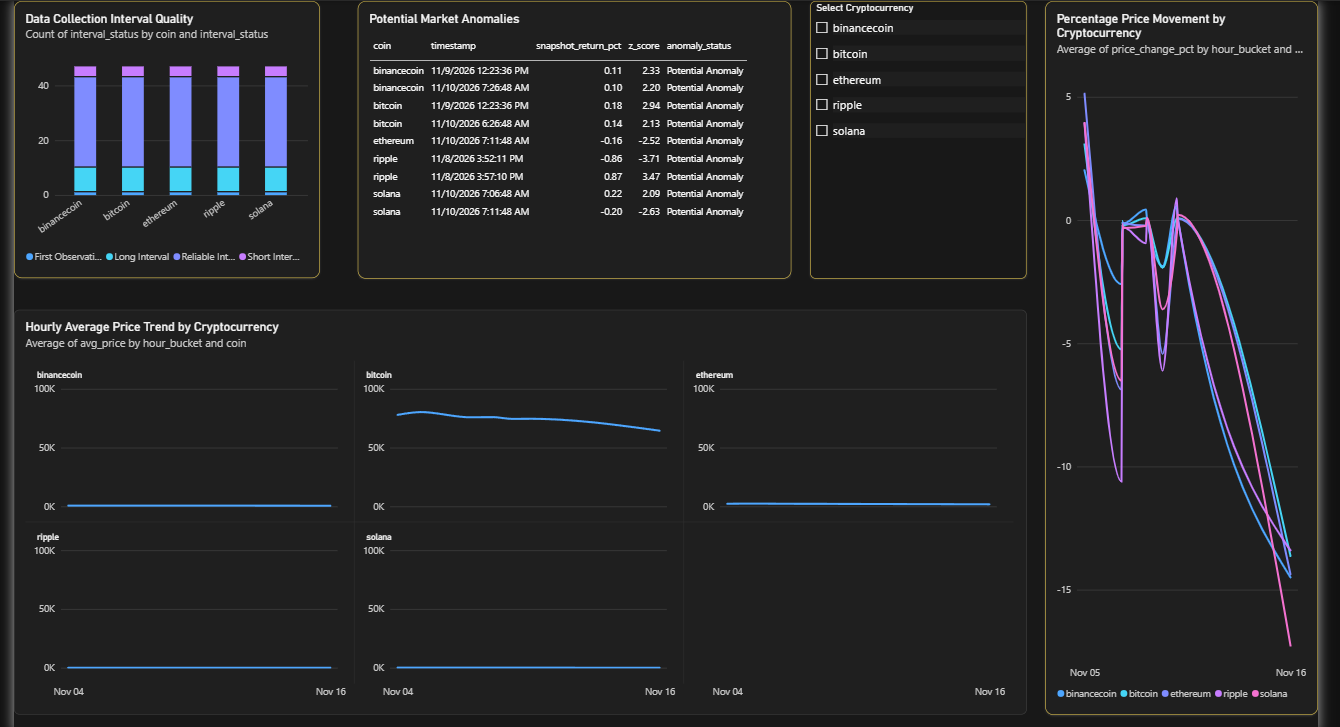

This screenshot's page, from the dashboard's own definition file:
{"tool":"powerbi","page":{"name":"Data Quality","canvas":[1920,1080],"ordinal":2},"visuals":[{"type":"tableEx","title":"Potential Market Anomalies","fields":{"Values":["vw_CryptoAnalytics.coin","vw_CryptoAnalytics.timestamp","vw_CryptoAnalytics.snapshot_return_pct","vw_CryptoAnalytics.z_score","vw_CryptoAnalytics.anomaly_status"]},"box":[506,0,638,254],"z":0},{"type":"columnChart","title":"Data Collection Interval Quality","fields":{"Category":["vw_CryptoAnalytics.coin"],"Series":["vw_CryptoAnalytics.interval_status"],"Y":["CountNonNull(vw_CryptoAnalytics.interval_status)"]},"box":[0,0,450,408],"z":1000},{"type":"cardVisual","fields":{"Data":["vw_CryptoAnalytics.Reliable Collection Rate"]},"box":[1518.4,11,328,244],"z":2000},{"type":"slicer","fields":{"Values":["vw_CryptoAnalytics.coin"]},"box":[1221.4,20,268.6,230],"z":3000},{"type":"lineChart","title":"Hourly Average Price Trend by Cryptocurrency","fields":{"Category":["vw_CryptoHourlyAnalysis.hour_bucket"],"Rows":["vw_CryptoHourlyAnalysis.coin"],"Y":["Avg(vw_CryptoHourlyAnalysis.avg_price)"]},"box":[0,454.6,1518.4,515.3],"z":4000},{"type":"lineChart","title":"Percentage Price Movement by Cryptocurrency","fields":{"Category":["vw_CryptoHourlyAnalysis.hour_bucket"],"Series":["vw_CryptoHourlyAnalysis.coin"],"Y":["Avg(vw_CryptoHourlyAnalysis.price_change_pct)"]},"box":[1518,0,402,800],"z":5000}]}

Visuals, with their boxes on the page's 1920x1080 design canvas (x1, y1, x2, y2). These are canvas units, not pixel positions in the 1340x727 screenshot, which may show the page scaled, cropped or inside an application window:
"Potential Market Anomalies" tableEx: bbox=(506, 0, 1144, 254)
"Data Collection Interval Quality" columnChart: bbox=(0, 0, 450, 408)
cardVisual - vw_CryptoAnalytics.Reliable Collection Rate: bbox=(1518, 11, 1846, 255)
slicer - vw_CryptoAnalytics.coin: bbox=(1221, 20, 1490, 250)
"Hourly Average Price Trend by Cryptocurrency" lineChart: bbox=(0, 455, 1518, 970)
"Percentage Price Movement by Cryptocurrency" lineChart: bbox=(1518, 0, 1920, 800)
